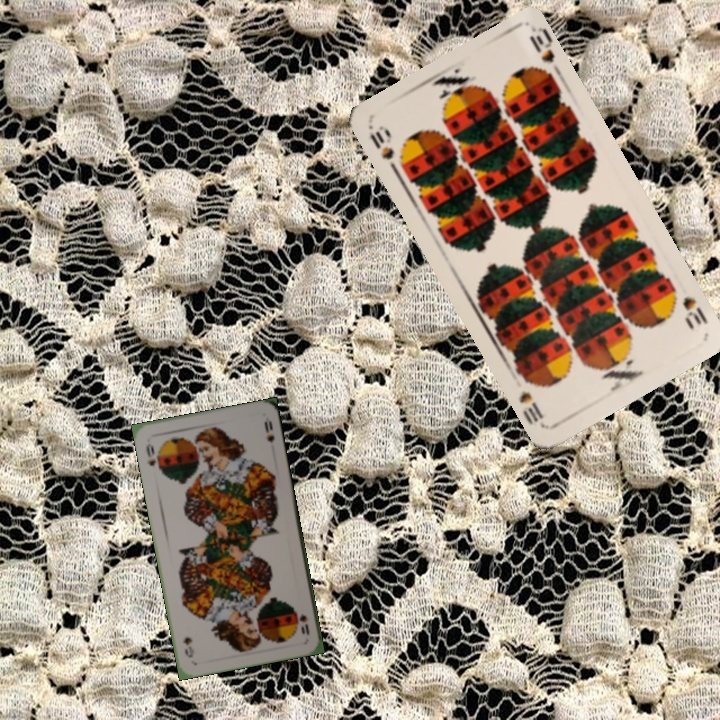S10: (666, 283, 711, 332), (365, 121, 397, 163)
SO: (142, 440, 162, 473), (292, 606, 312, 638)
